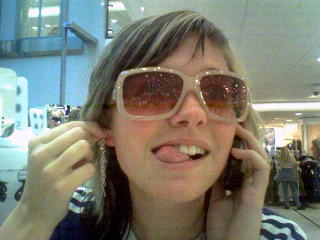person: (1, 10, 313, 240)
